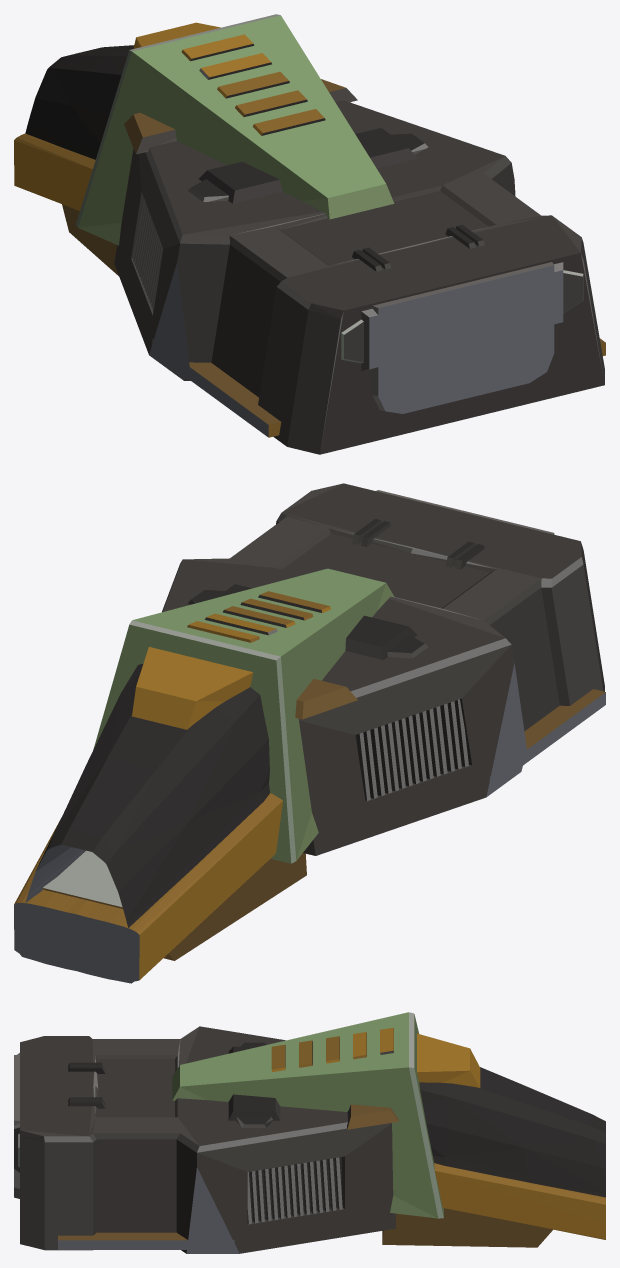
Rendered from fuselage.glb.
3 renders of one model, top to bottom at view 1: azimuth 30°, elevation 25°; view 2: azimuth 150°, elevation 25°; view 3: azimuth 270°, elevation 25°, orthographic. The views are drawn at different scales.
Size of the model in its own units: 0.88 by 0.6178 by 1.76.
